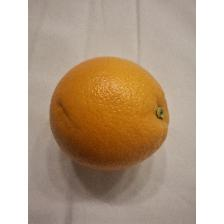Mandarine: (48, 54, 172, 174)
